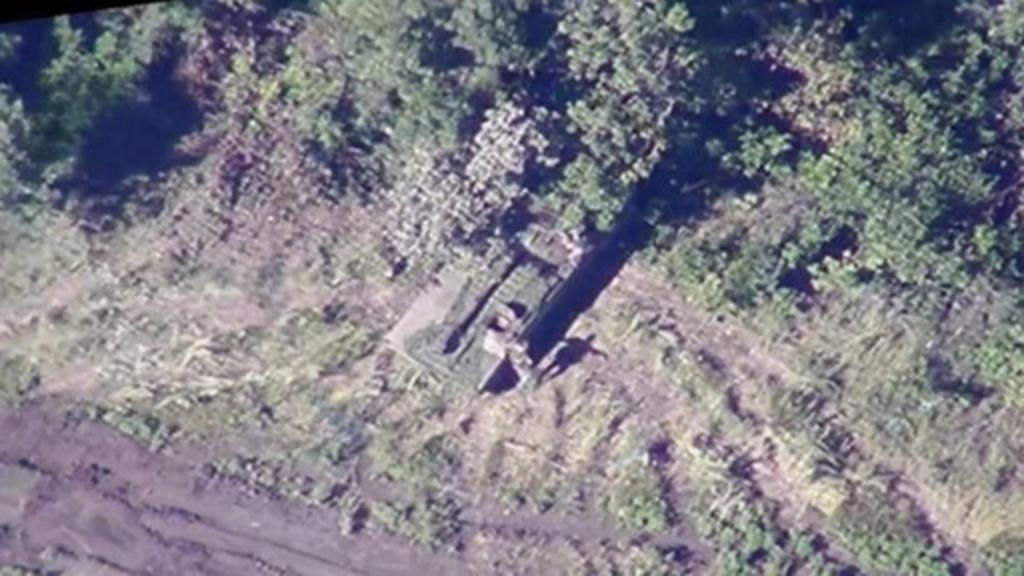ART: (380, 152, 638, 412)
